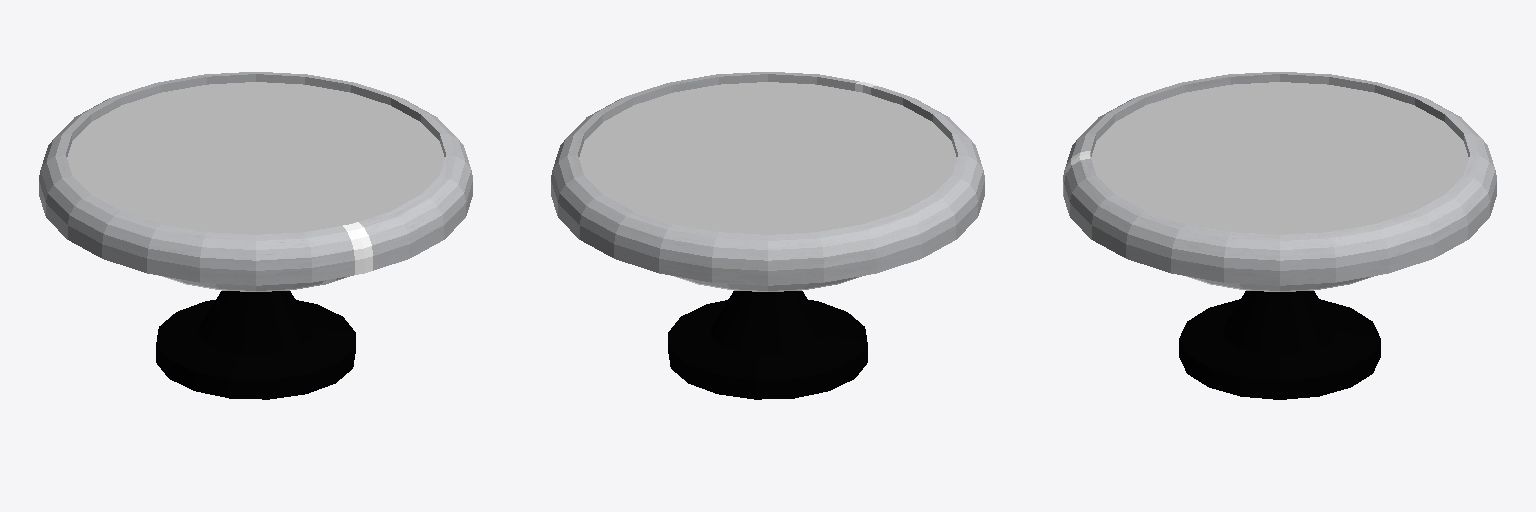
3 views of the same model, side by side, from view 1: azimuth 30°, elevation 25°; view 2: azimuth 150°, elevation 25°; view 3: azimuth 270°, elevation 25° (orthographic).
Visible parts, largest first — view 1: Mesh_0010_Mesh_0010Mesh.010_Mesh_0010_Mesh_0010Mesh.016; view 2: Mesh_0010_Mesh_0010Mesh.010_Mesh_0010_Mesh_0010Mesh.016; view 3: Mesh_0010_Mesh_0010Mesh.010_Mesh_0010_Mesh_0010Mesh.016.
Part boxes in pixels (x1,y1,x2,y2): Mesh_0010_Mesh_0010Mesh.010_Mesh_0010_Mesh_0010Mesh.016: (39, 72, 472, 399); Mesh_0010_Mesh_0010Mesh.010_Mesh_0010_Mesh_0010Mesh.016: (551, 72, 984, 399); Mesh_0010_Mesh_0010Mesh.010_Mesh_0010_Mesh_0010Mesh.016: (1063, 72, 1496, 399).
Size of the model in its own units: 0.4611 by 0.2375 by 0.4611.
Materials: 3 (2 with a texture image).